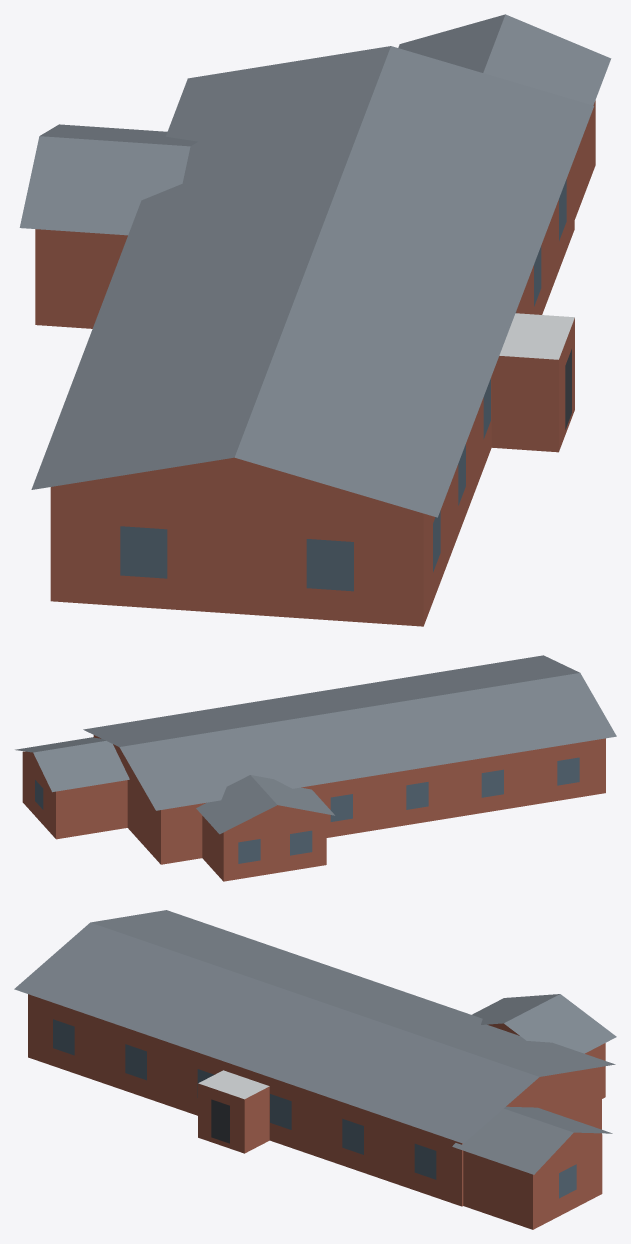
The model's file is detail.glb.
3 views of the same model, one above another, from view 1: azimuth 30°, elevation 25°; view 2: azimuth 150°, elevation 25°; view 3: azimuth 270°, elevation 25° (orthographic). The views are drawn at different scales.
Parts seen in each view (by area): view 1: bunkhouse-charlotte; view 2: bunkhouse-charlotte; view 3: bunkhouse-charlotte.
Part boxes in pixels (<box>): bunkhouse-charlotte: <box>19,14,611,626</box>; bunkhouse-charlotte: <box>15,655,616,881</box>; bunkhouse-charlotte: <box>14,910,616,1229</box>.
Bounding box in the file's own units: 30.31 × 5.3 × 30.18.
